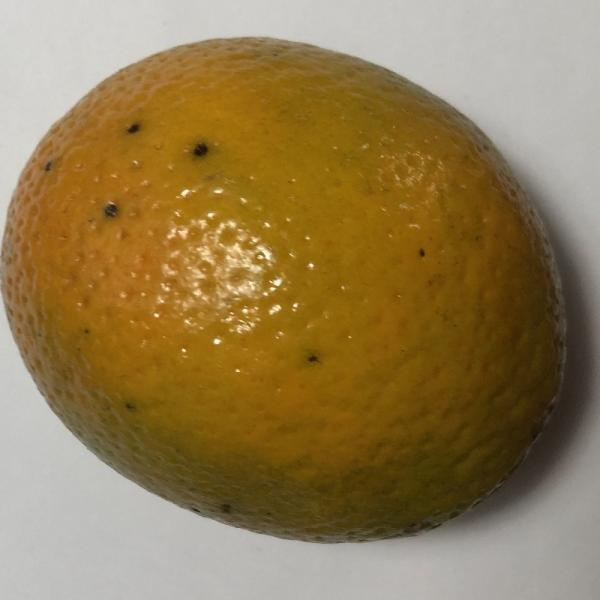Machas negras: (1, 10, 594, 562)
